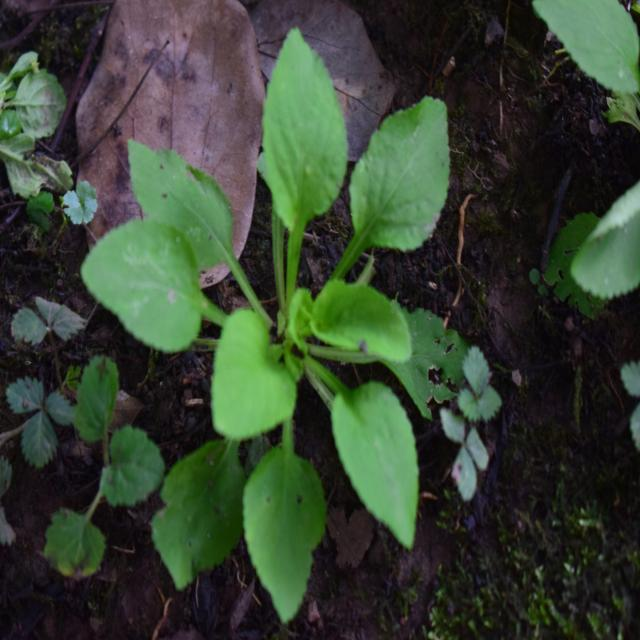Viola: (106, 58, 486, 582)
